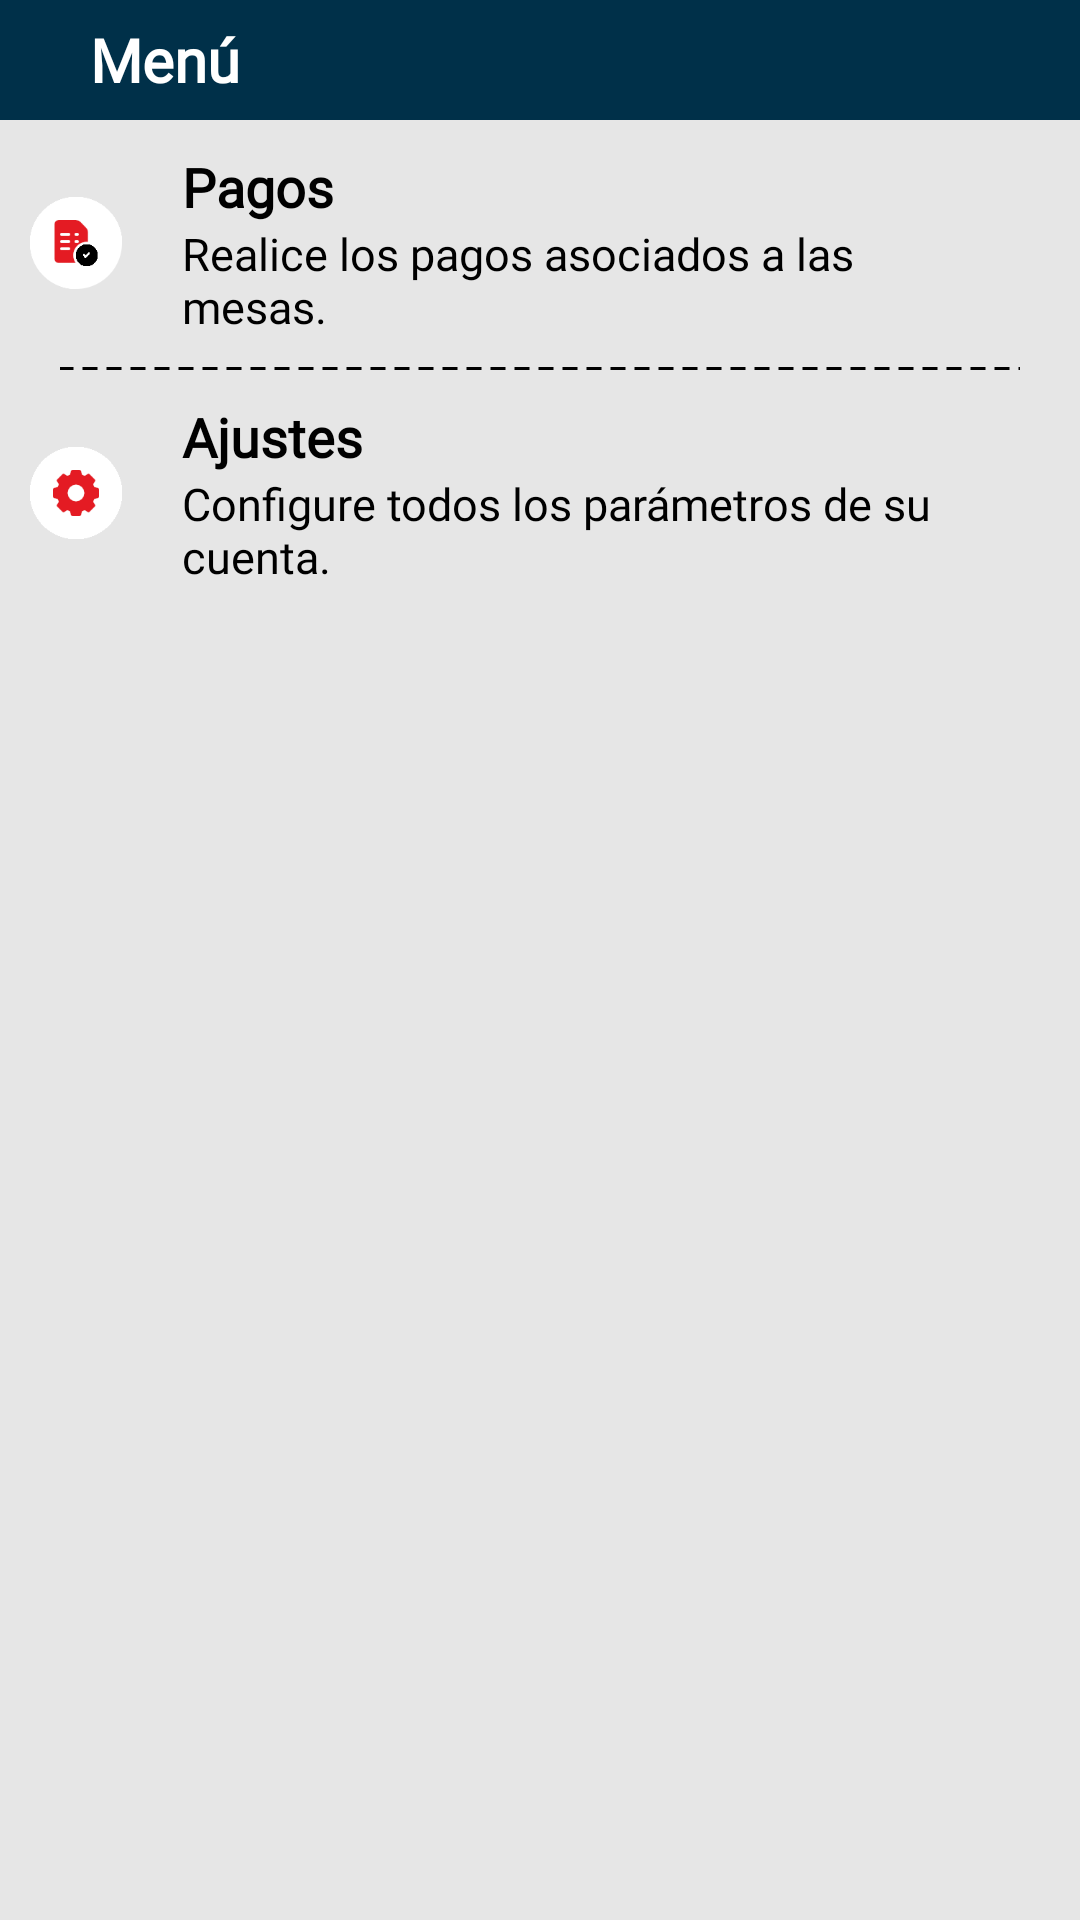

Named icons in this screenshot (1080 × 1920) and their bounding boxes, [x1=x1, y1=y1, x2=x2, y2=y2]:
order: [x1=30, y1=197, x2=122, y2=289]
setting: [x1=30, y1=447, x2=122, y2=539]
